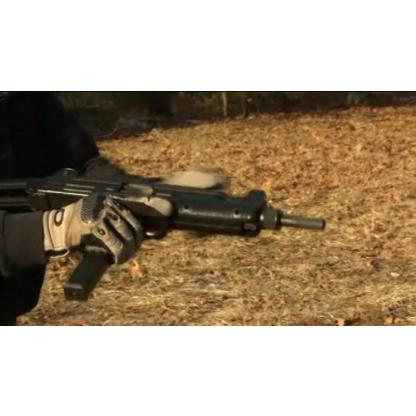gun: (0, 160, 332, 304)
